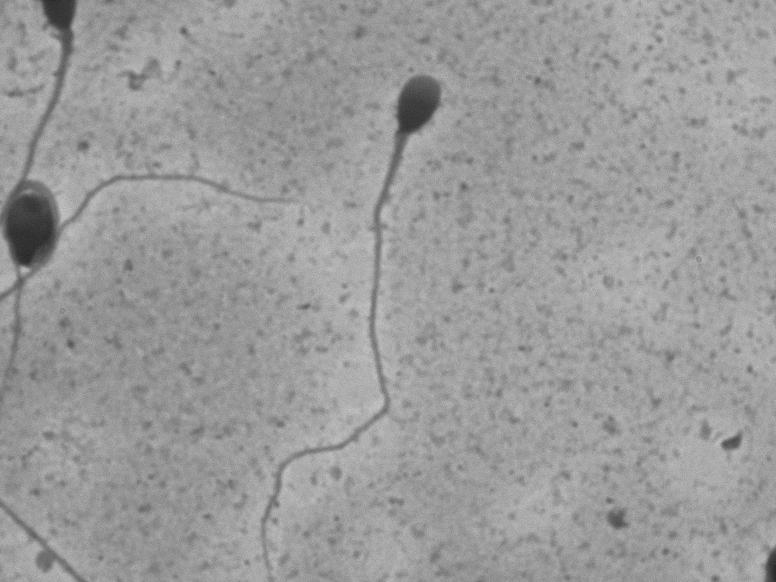Normal: (251, 26, 496, 566)
